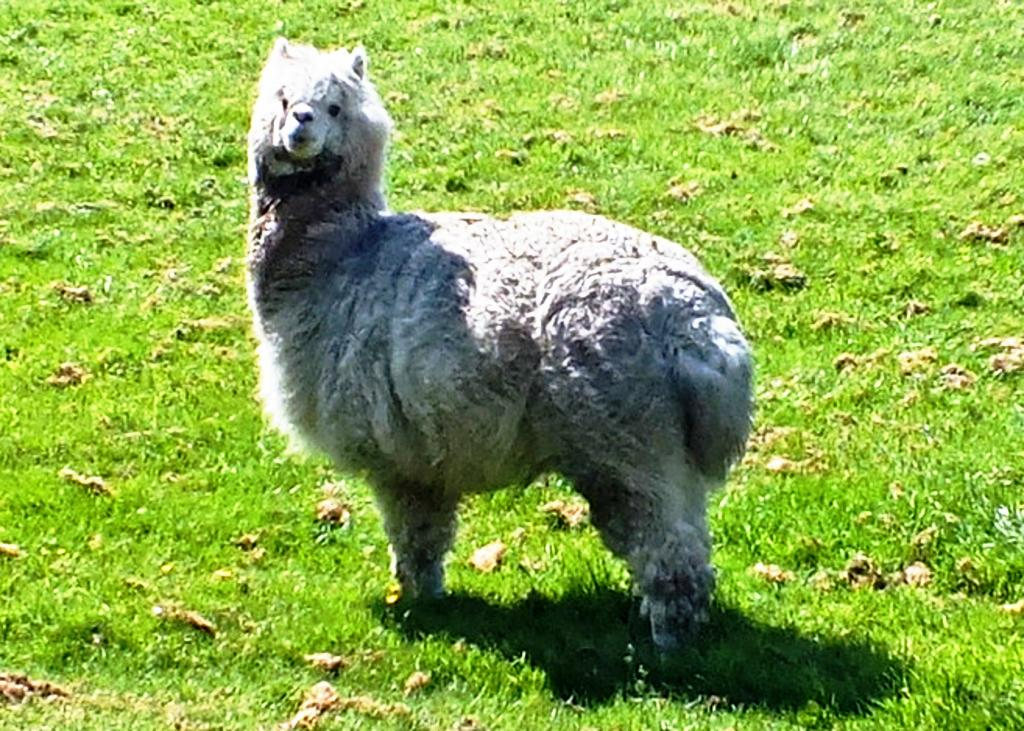Sheep: (247, 38, 756, 646)
